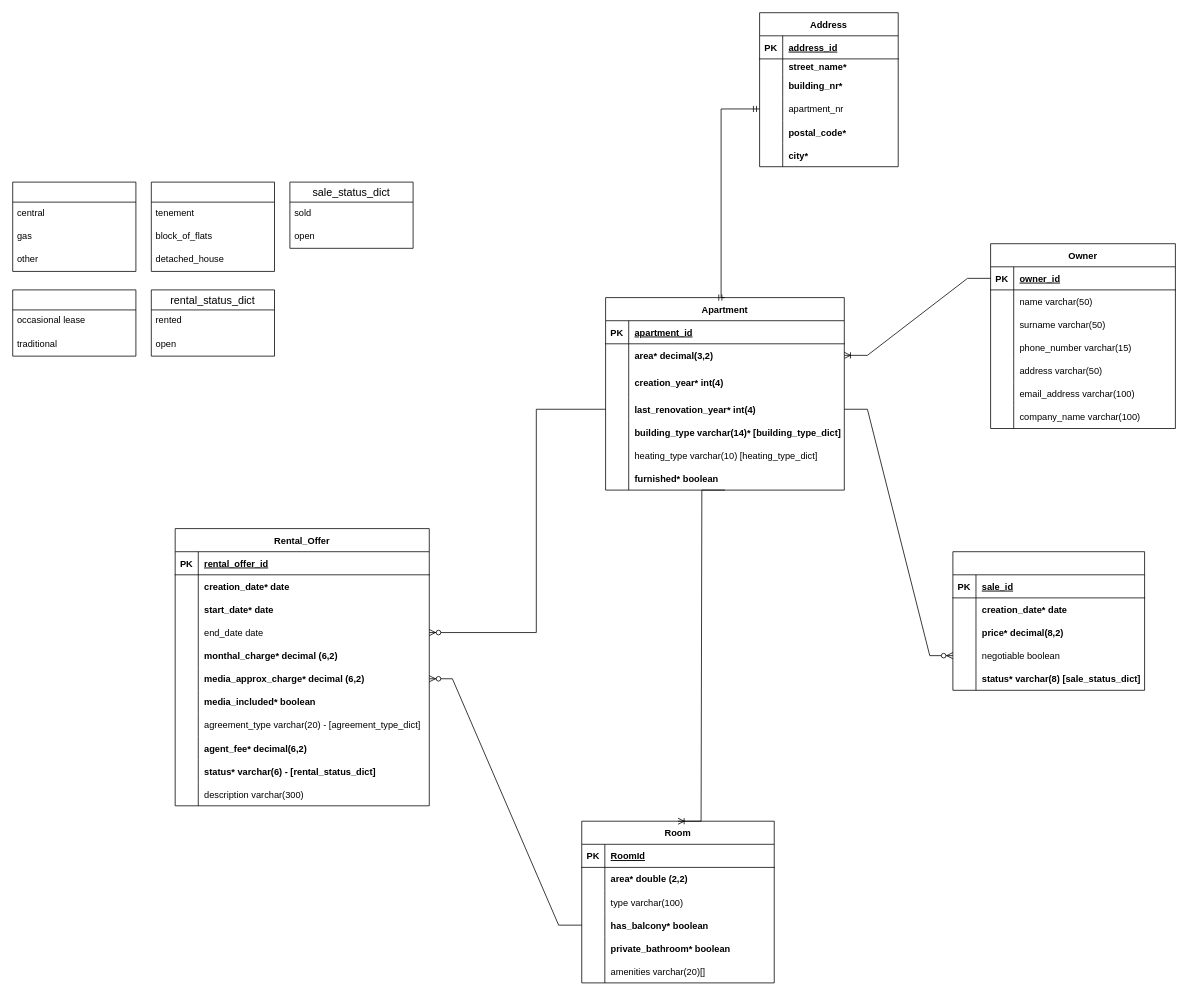
This 1188x996 diagram has some shape labels left out. The shapes that lost their labels are listed below. From the top down, each one's box as (x1, y1, x2, y2) in pixels, then its label:
(12, 181, 136, 271): heating_type_dict
(151, 181, 275, 271): building_type_dict
(12, 289, 136, 356): agreement_type_dict
(952, 551, 1145, 690): Sale_Offer
